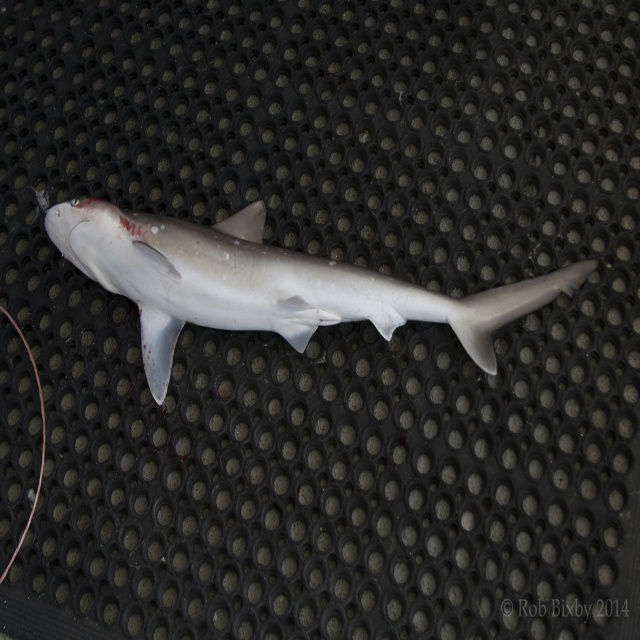Shark: (0, 178, 623, 430)
